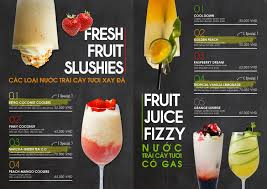not-coke: (75, 93, 126, 189)
